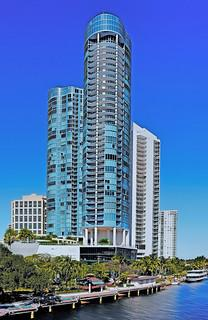building: (44, 6, 132, 258), (134, 122, 161, 266)
